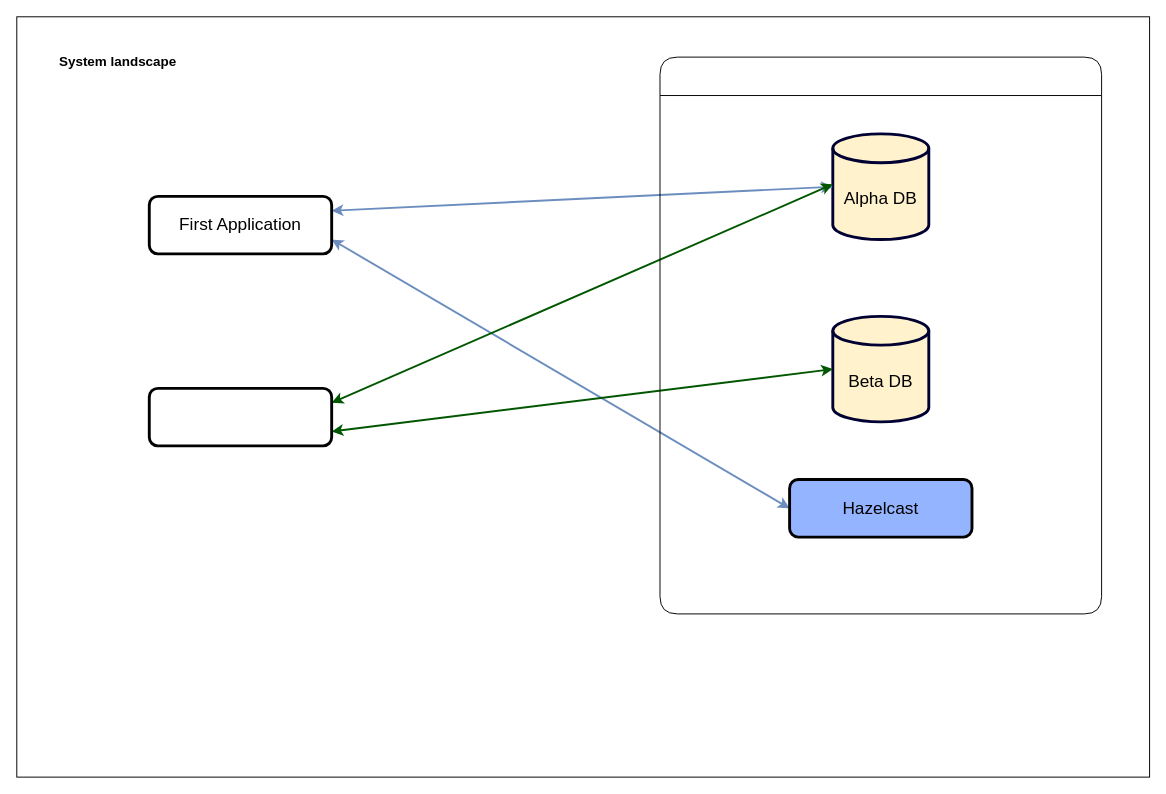
Some shapes in this 1166 by 794 pixel diagram are drawn without their labels. Each missing label, with the centre of its shape:
"Docker" belongs at point 880,335.
"Second Application" belongs at point 240,416.
